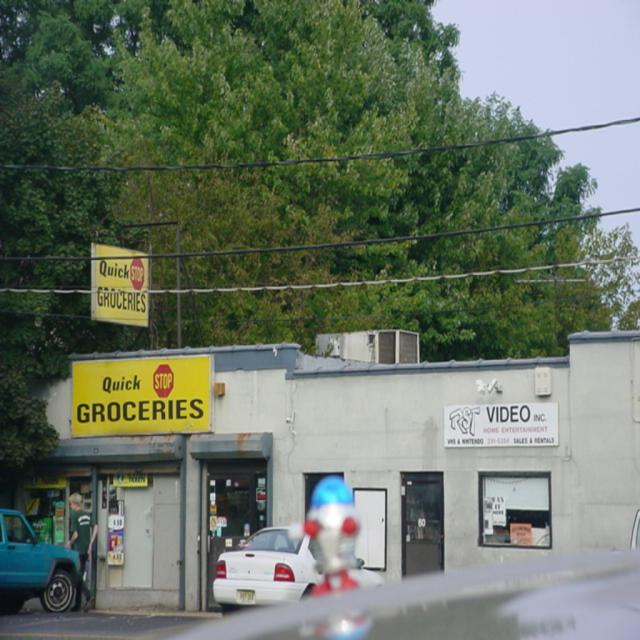car: (3, 502, 97, 626)
